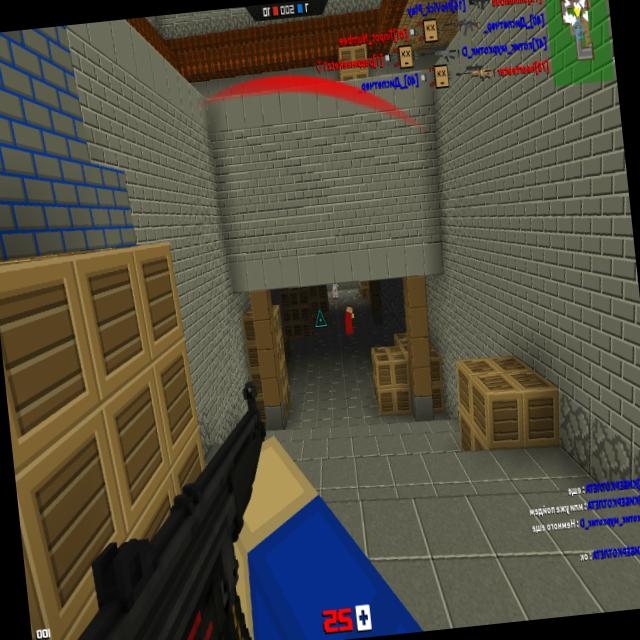enemy: (342, 302, 356, 336), (330, 283, 340, 300)
